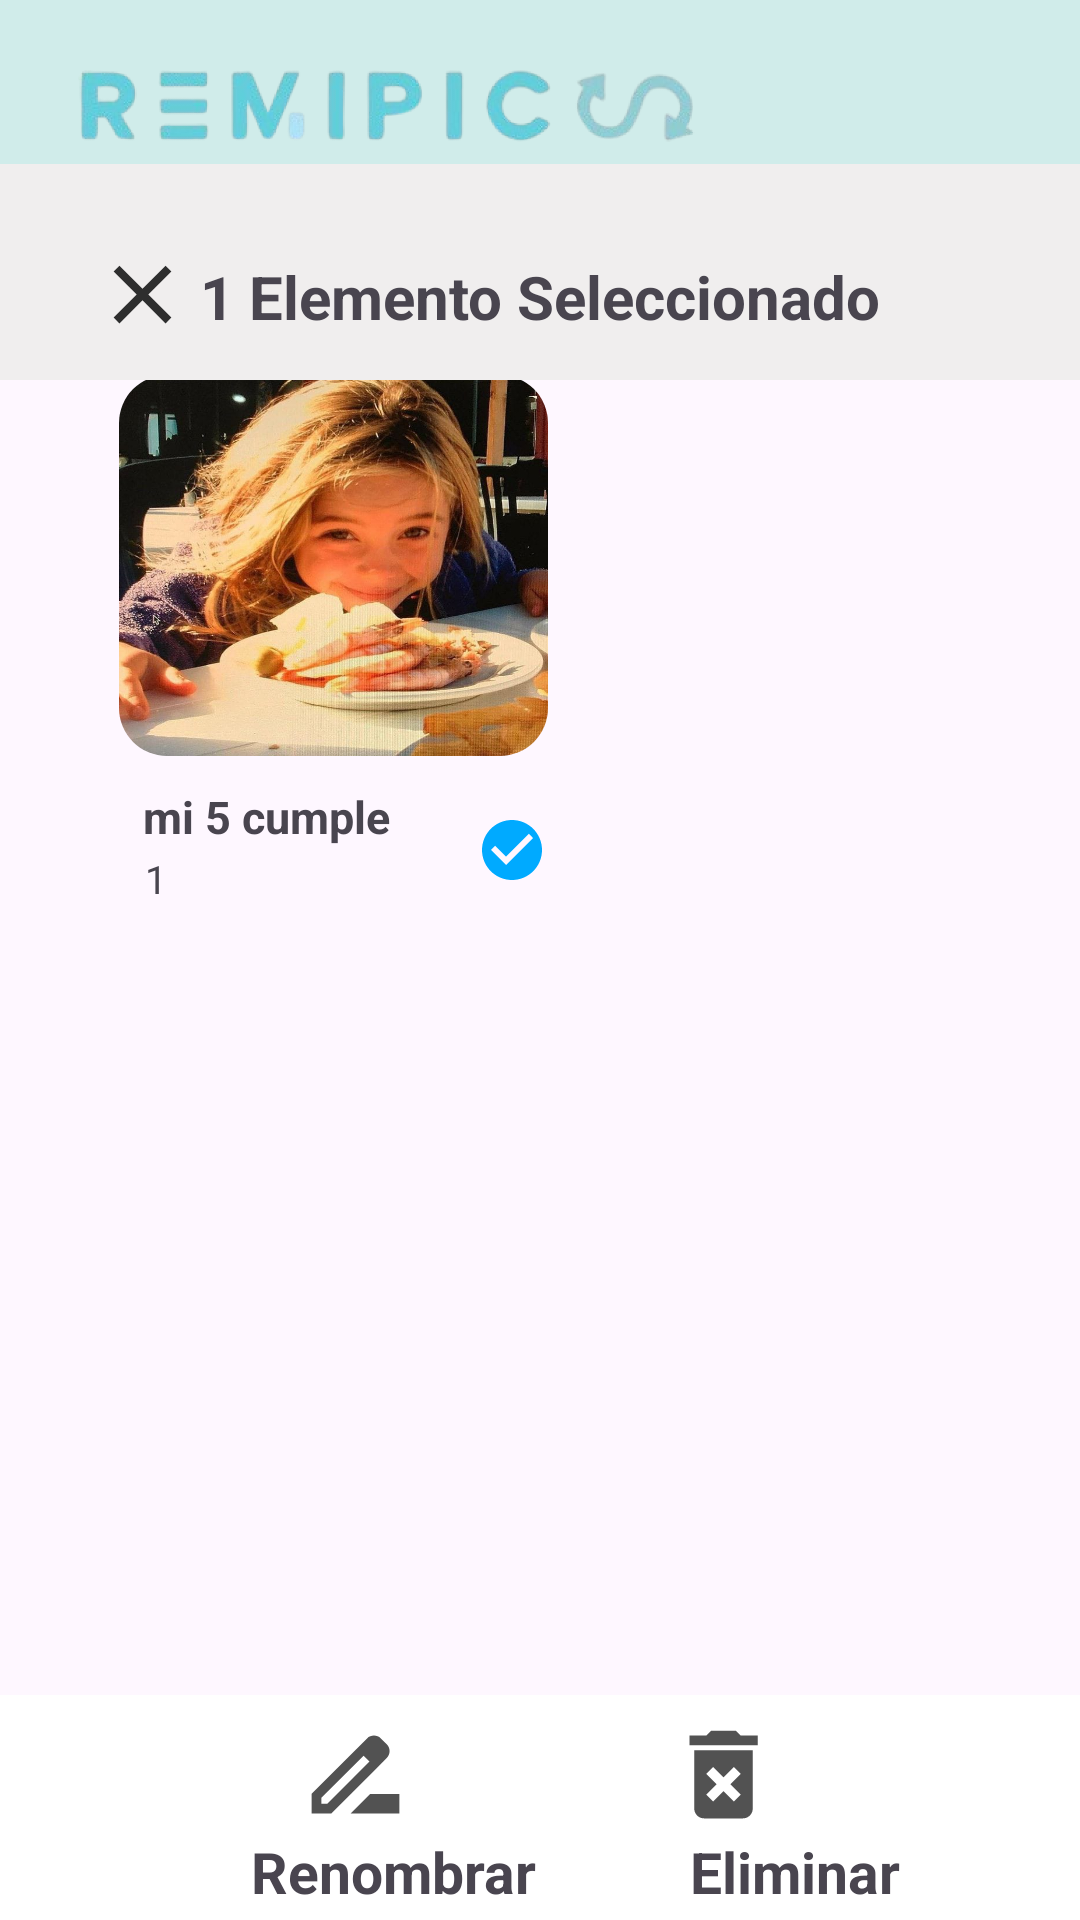

Where to tap for icons on this 1080*1920 app screen, as (x,y):
cerrar selec: (142,295)
check selec: (512,850)
